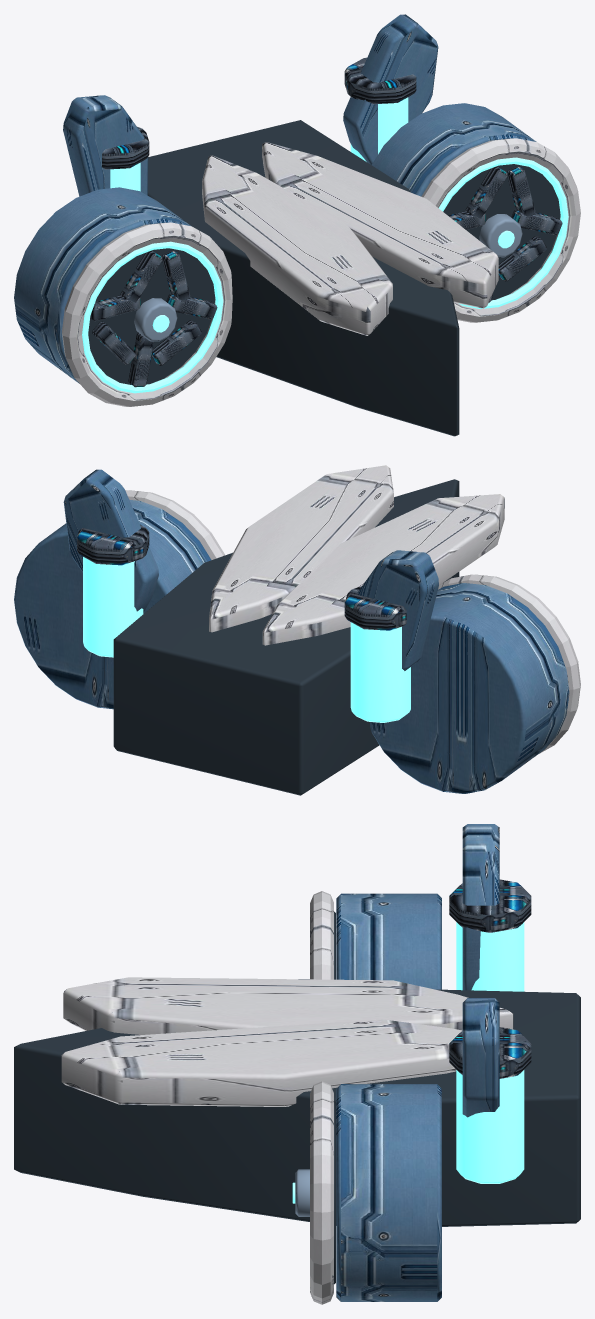
The model's file is flyer.glb.
3 views of the same model, one above another, from view 1: azimuth 30°, elevation 25°; view 2: azimuth 150°, elevation 25°; view 3: azimuth 270°, elevation 25° (orthographic). The views are drawn at different scales.
Parts seen in each view (by area): view 1: Split arrow nose, Pointed interceptor chassis, Swept dorsal vane, Turbine impeller blade, Turbine running light, Turbine hub, Biome pressure capsule; view 2: Swept dorsal vane, Pointed interceptor chassis, Split arrow nose, Biome pressure capsule, Turbine impeller blade; view 3: Pointed interceptor chassis, Split arrow nose, Swept dorsal vane, Biome pressure capsule, Turbine impeller blade, Turbine hub.
Part boxes in pixels (<box>): Split arrow nose: <box>62,138,580,406</box>; Pointed interceptor chassis: <box>88,120,560,436</box>; Swept dorsal vane: <box>14,14,536,383</box>; Turbine impeller blade: <box>90,57,562,387</box>; Turbine running light: <box>82,157,568,393</box>; Turbine hub: <box>134,214,522,341</box>; Biome pressure capsule: <box>110,97,408,191</box>; Swept dorsal vane: <box>14,469,569,793</box>; Pointed interceptor chassis: <box>113,479,459,795</box>; Split arrow nose: <box>125,465,580,753</box>; Biome pressure capsule: <box>83,557,410,722</box>; Turbine impeller blade: <box>77,524,406,630</box>; Pointed interceptor chassis: <box>14,911,580,1284</box>; Split arrow nose: <box>61,891,513,1304</box>; Swept dorsal vane: <box>336,824,499,1301</box>; Biome pressure capsule: <box>456,922,524,1183</box>; Turbine impeller blade: <box>449,879,531,1078</box>; Turbine hub: <box>295,979,309,1216</box>.
Bounding box in the file's own units: 1.47 × 0.6893 × 1.23.
Materials: 7 (3 with a texture image).
